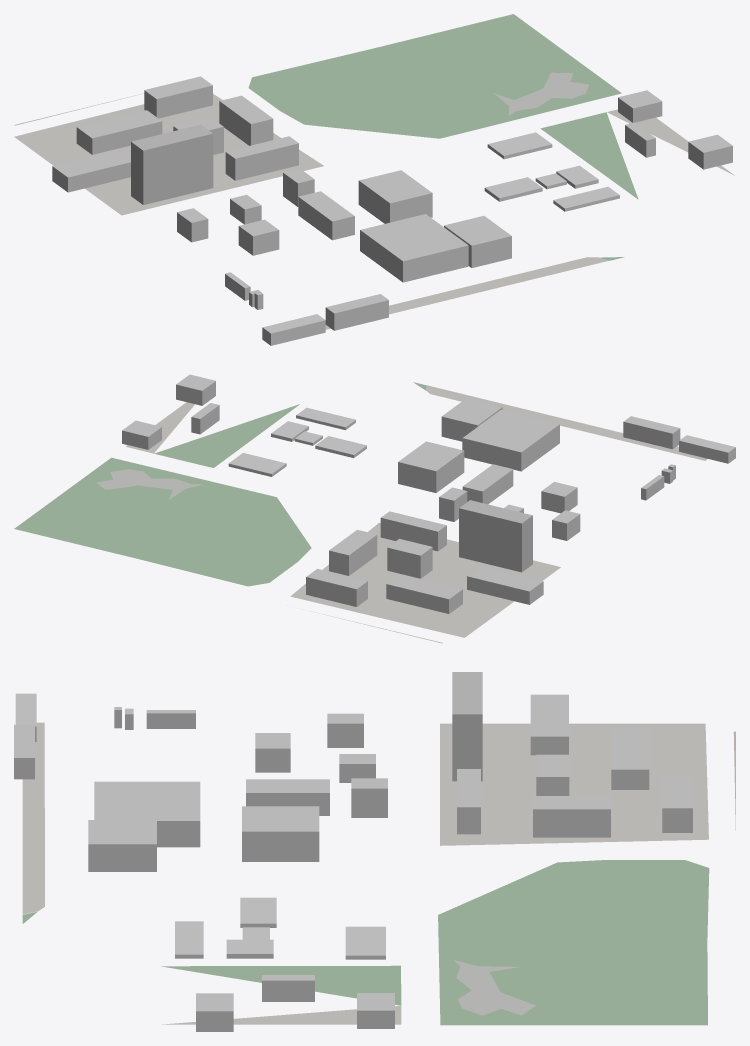
The model's file is 124_73_mid.glb.
3 renders of one model, top to bottom at view 1: azimuth 30°, elevation 25°; view 2: azimuth 150°, elevation 25°; view 3: azimuth 270°, elevation 25°, orthographic. The views are drawn at different scales.
Size of the model in its own units: 534 by 52.51 by 506.
